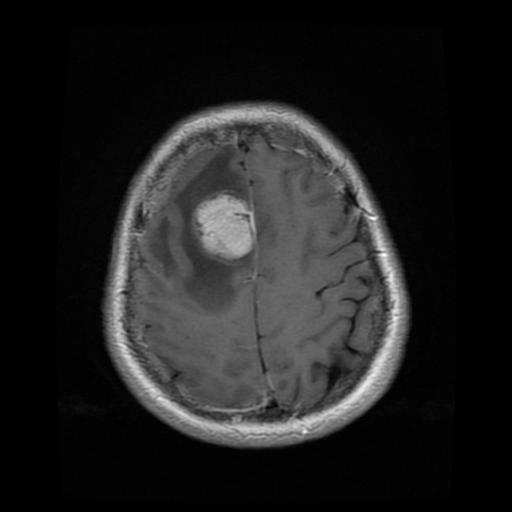Tumour-Meningioma: (185, 184, 278, 281)
